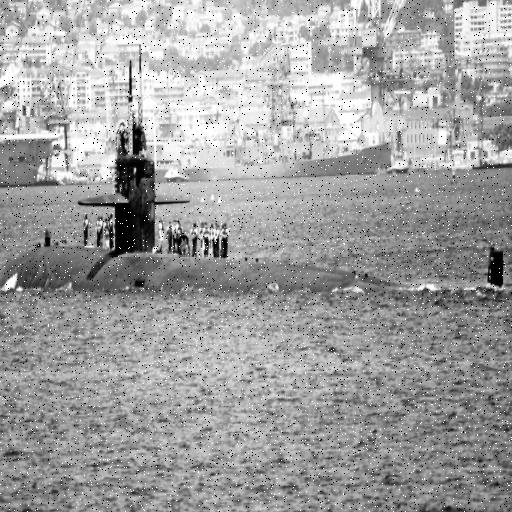submarine: (1, 57, 508, 289)
